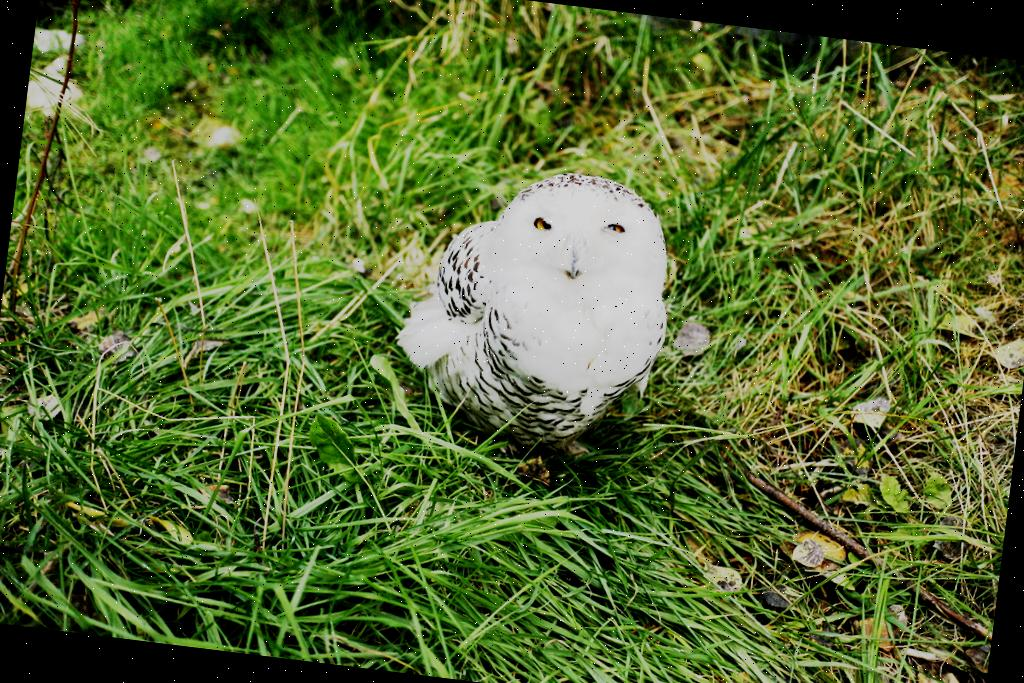Owl: (352, 140, 696, 497)
